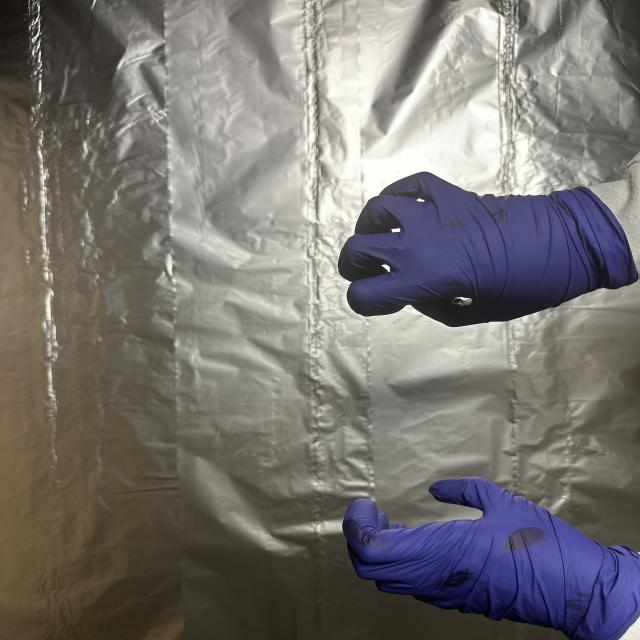gloves_contaminated: (343, 477, 640, 640), (338, 172, 638, 327)
